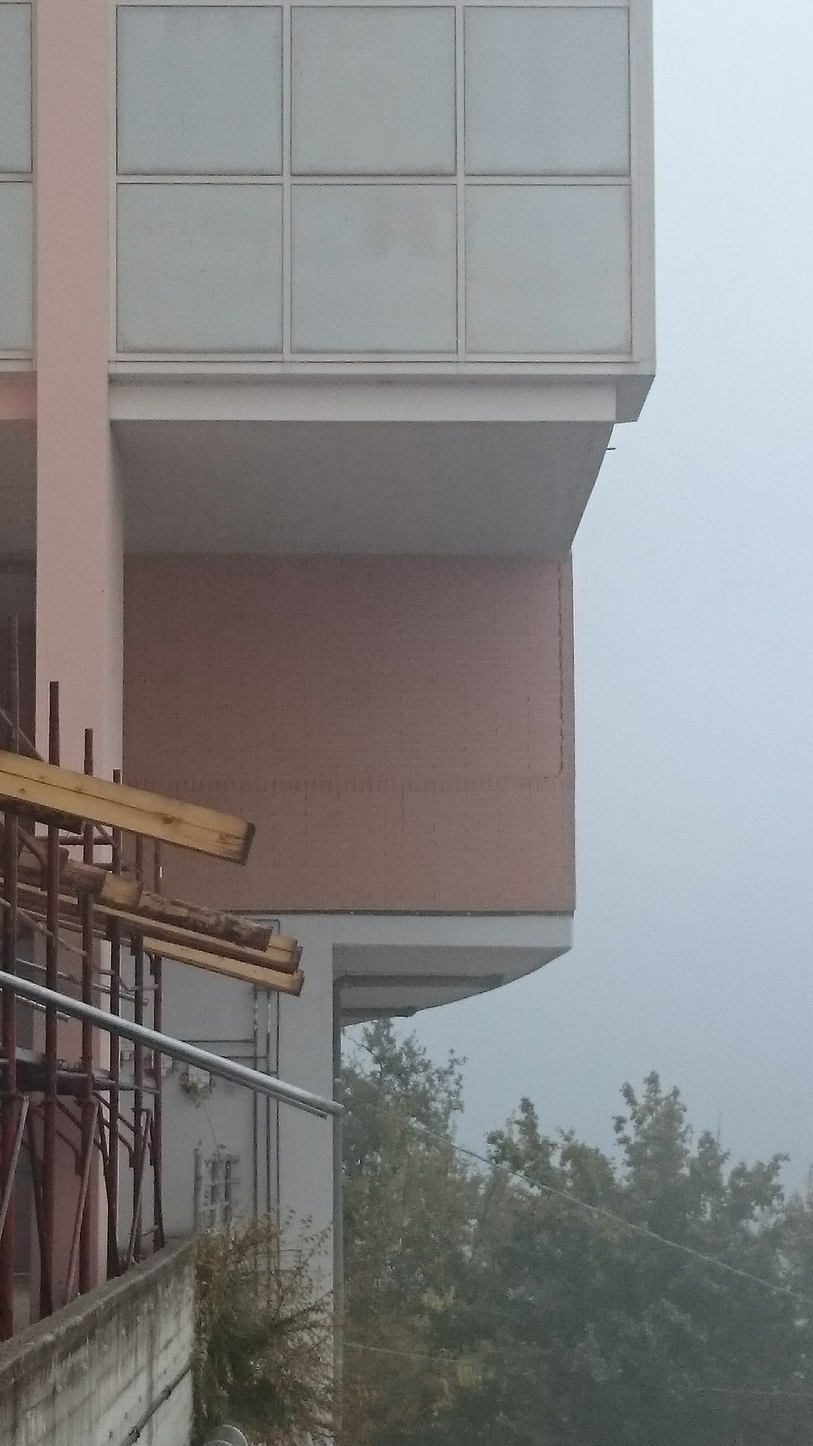Crack: (546, 557, 571, 787)
